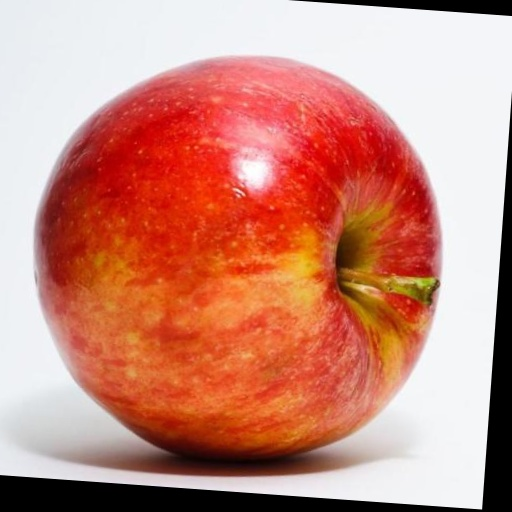fruit: (34, 57, 440, 459)
